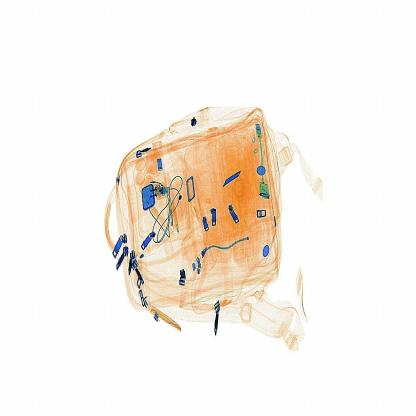pliers: (214, 161, 249, 199)
